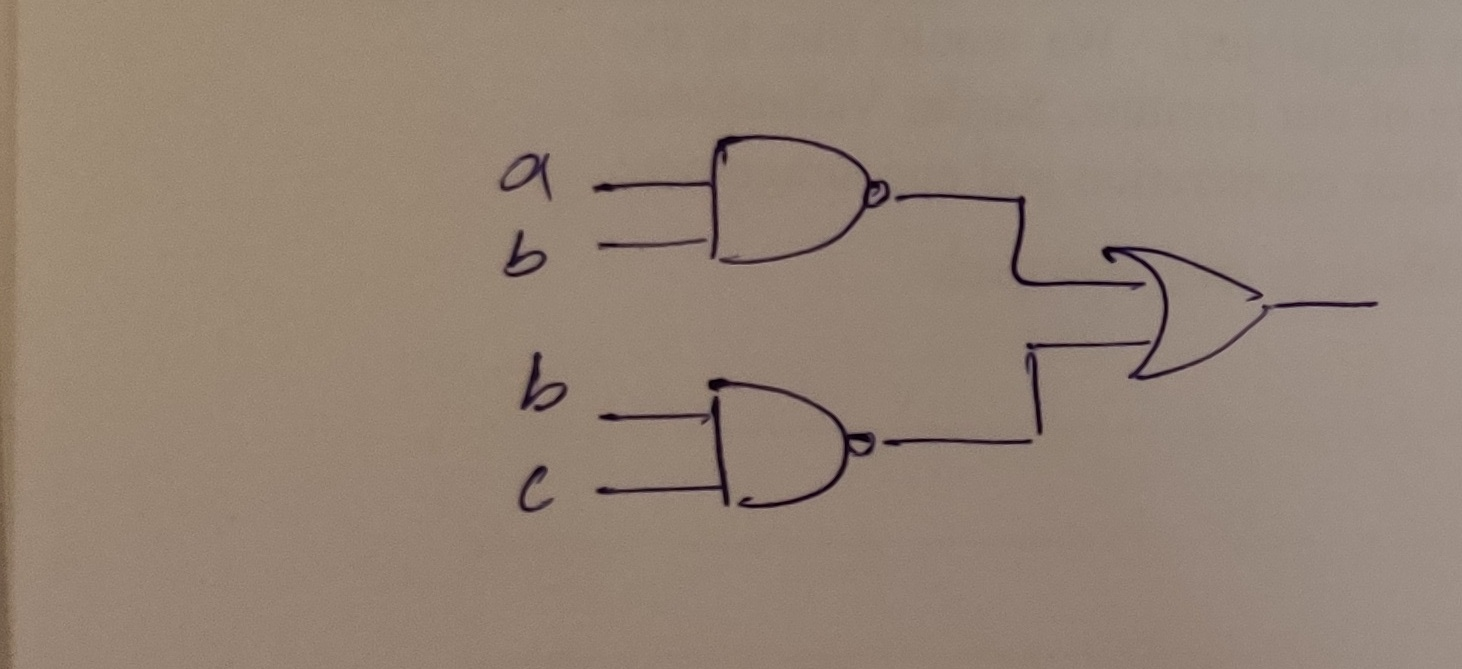nand: (689, 114, 914, 291), (682, 361, 907, 534)
or: (1079, 232, 1288, 398)
